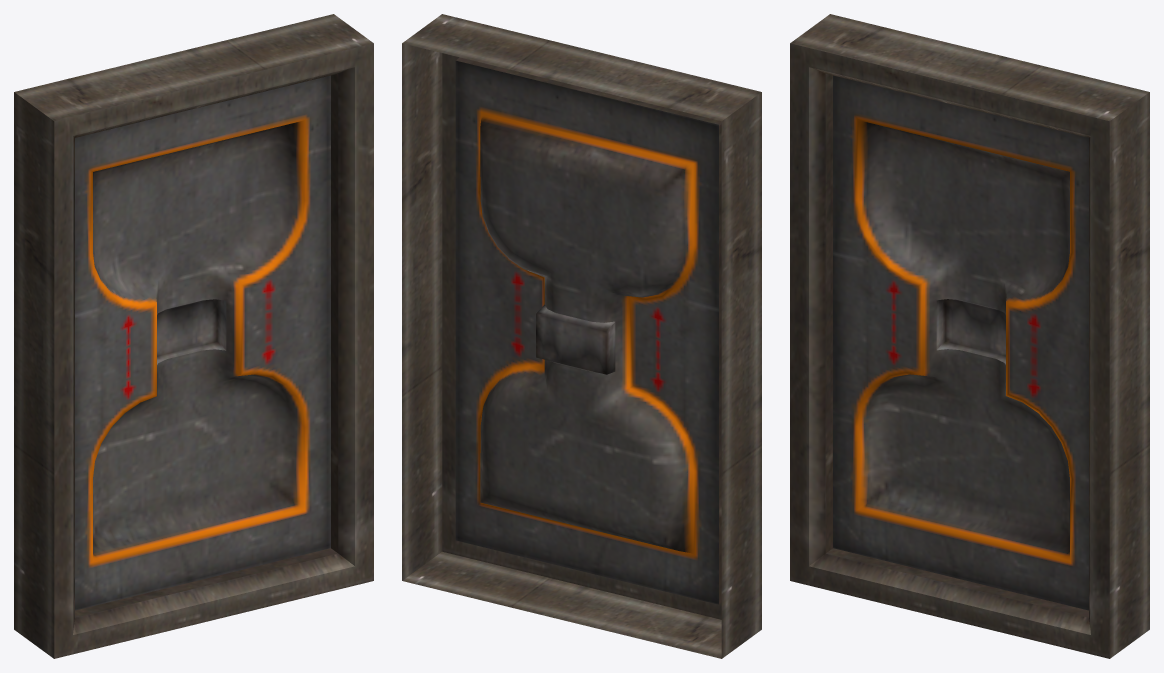
File: substation_airlock_lever_box.dae
The picture shows the model from 3 angles, left to right: view 1: azimuth 30°, elevation 25°; view 2: azimuth 150°, elevation 25°; view 3: azimuth 330°, elevation 25°; orthographic projection.
Parts seen in each view (by area): view 1: polySurface1, polySurface2; view 2: polySurface1, polySurface2; view 3: polySurface1, polySurface2.
Part boxes in pixels (bbox=[...]): polySurface1: bbox=[75, 75, 330, 610]; polySurface2: bbox=[14, 14, 373, 658]; polySurface1: bbox=[455, 60, 718, 604]; polySurface2: bbox=[402, 14, 761, 658]; polySurface1: bbox=[833, 75, 1088, 610]; polySurface2: bbox=[790, 14, 1149, 658].
Size of the model in its own units: 0.6222 by 1 by 0.135.
